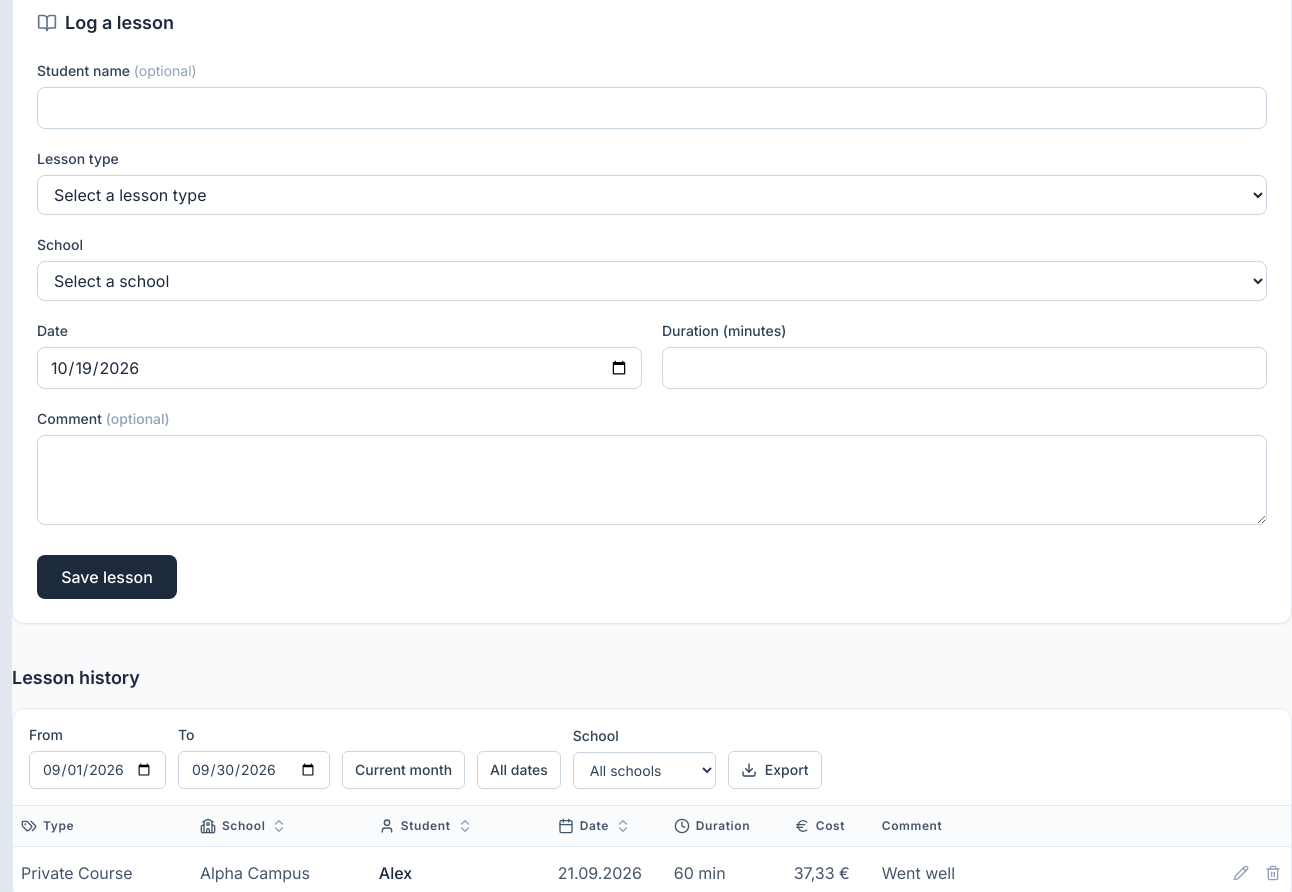
LessonsPage › deletes after confirming and shows an error if it fails
This screenshot has width=1292, height=892.
(page scrolled)
Click the button named "delete lesson for alex".
click(1273, 873)  # box x1=1259 y1=859 x2=1287 y2=887
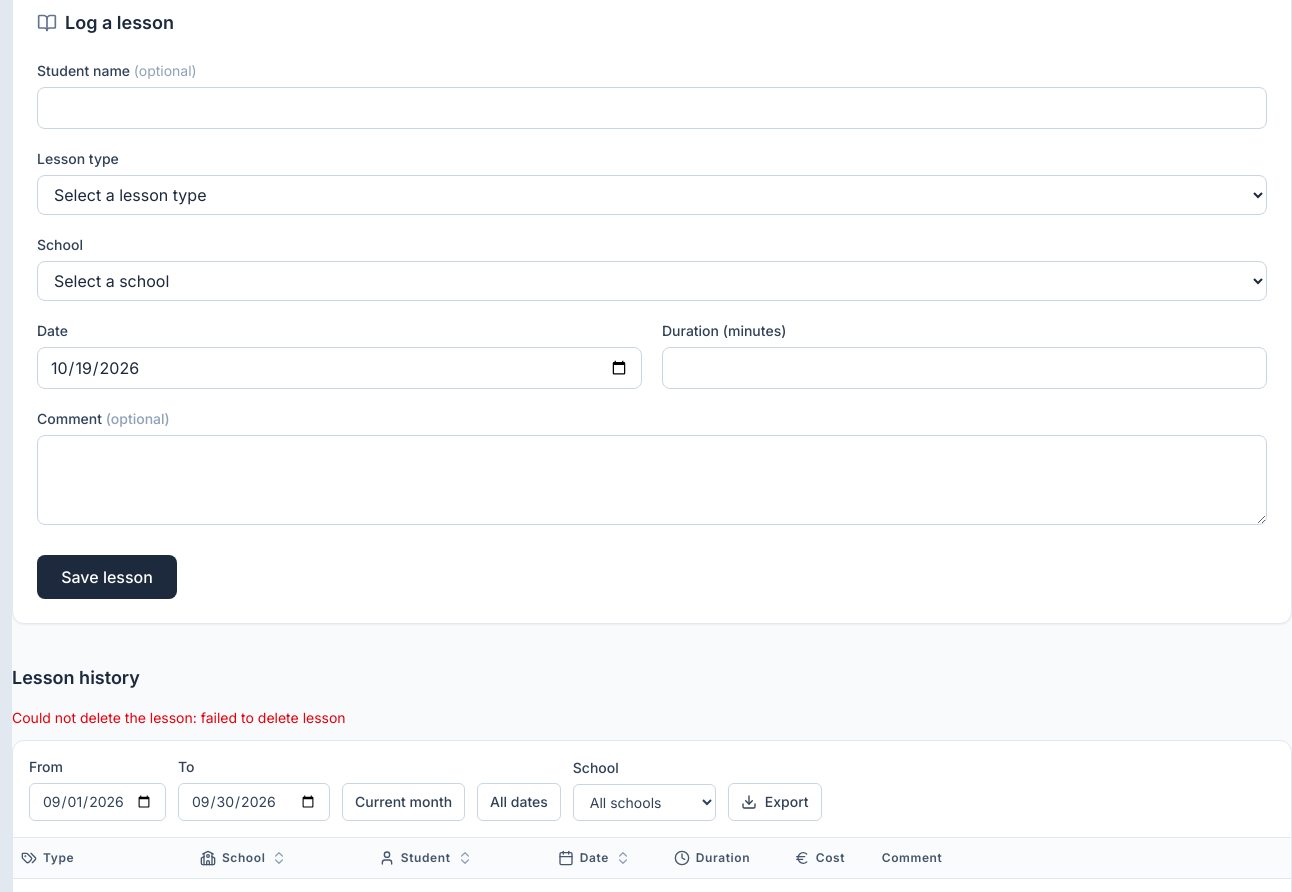
Check: the message reads "Could not delete the lesson: failed to delete lesson", box x1=12 y1=709 x2=346 y2=726
